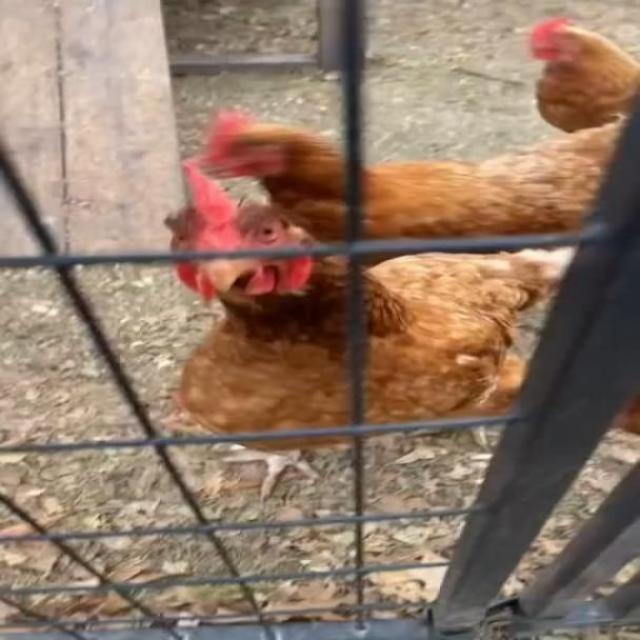Chicken: (165, 165, 577, 501), (189, 109, 629, 264), (524, 16, 640, 134)
